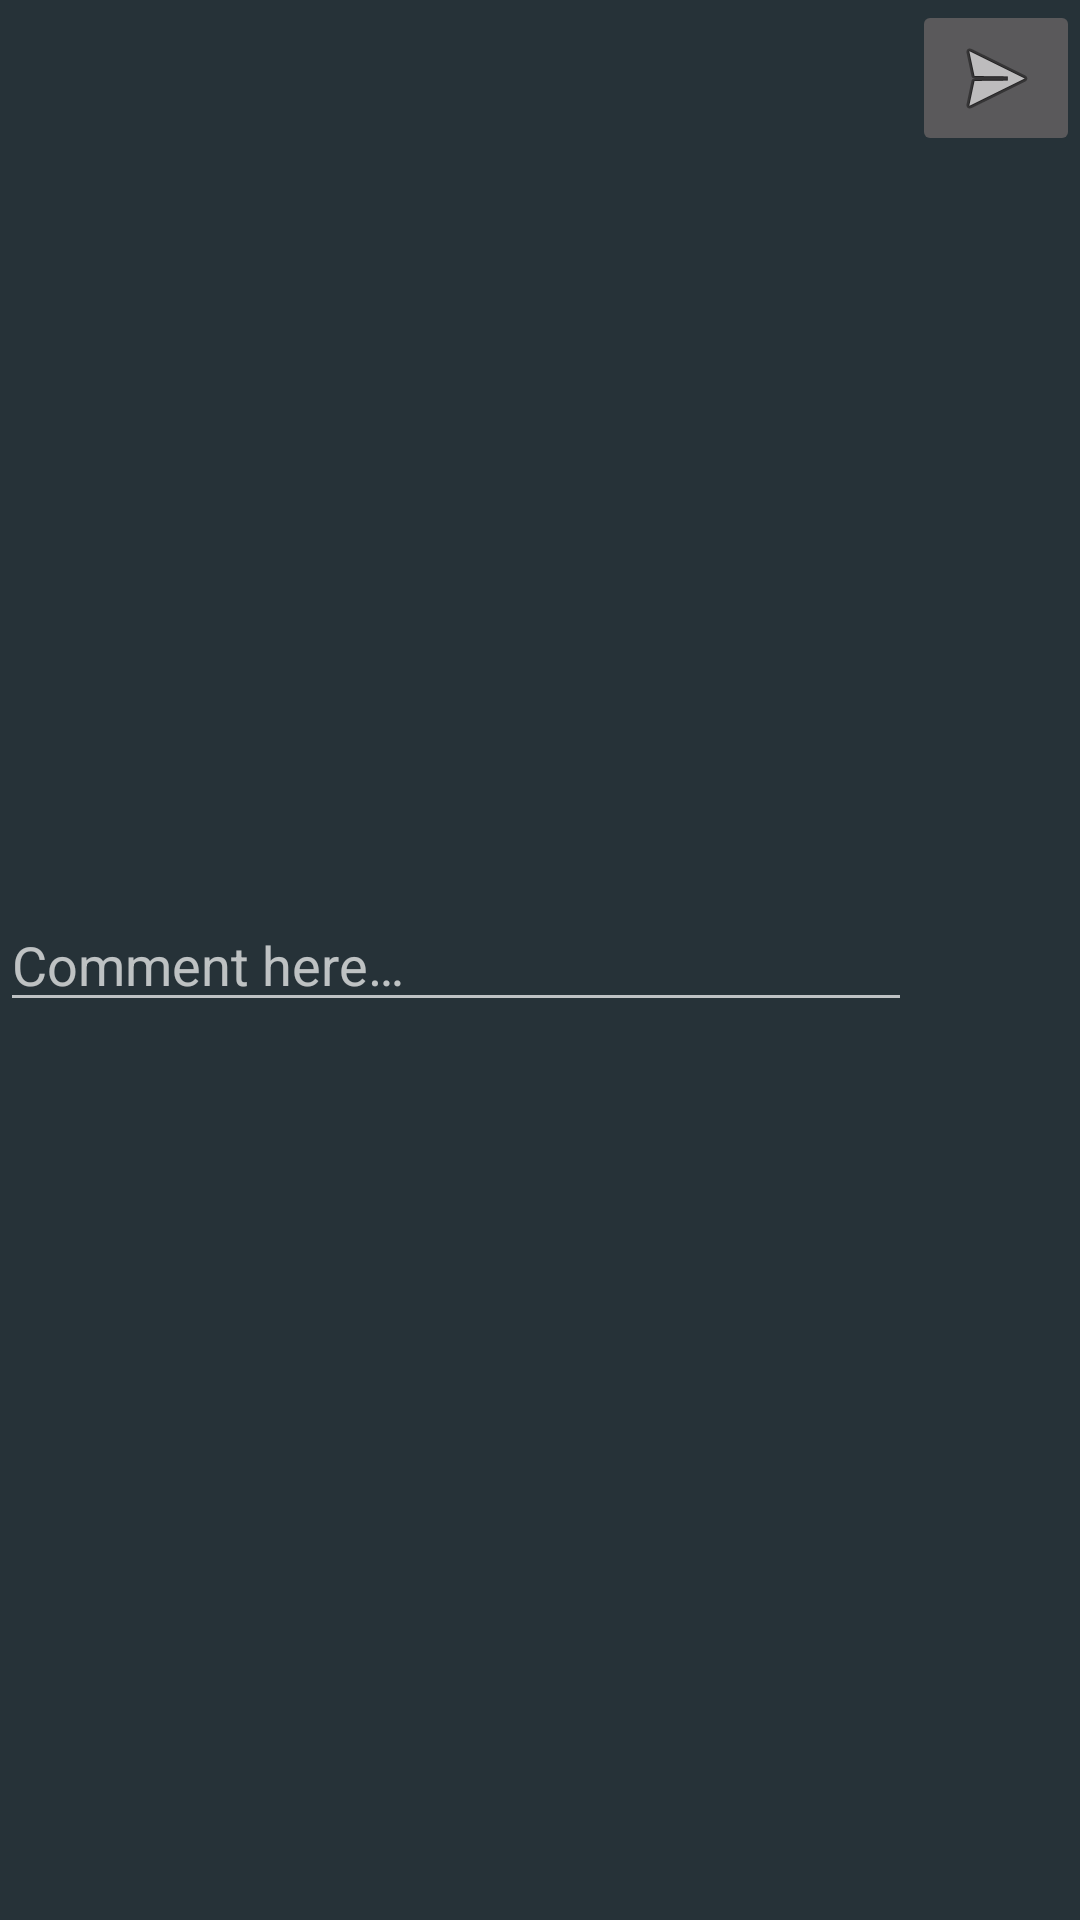

Named icons in this screenshot (1080w x 1920h) and their bounding boxes, (x1, y1, x2, y2):
send: (924, 18, 1068, 138)
